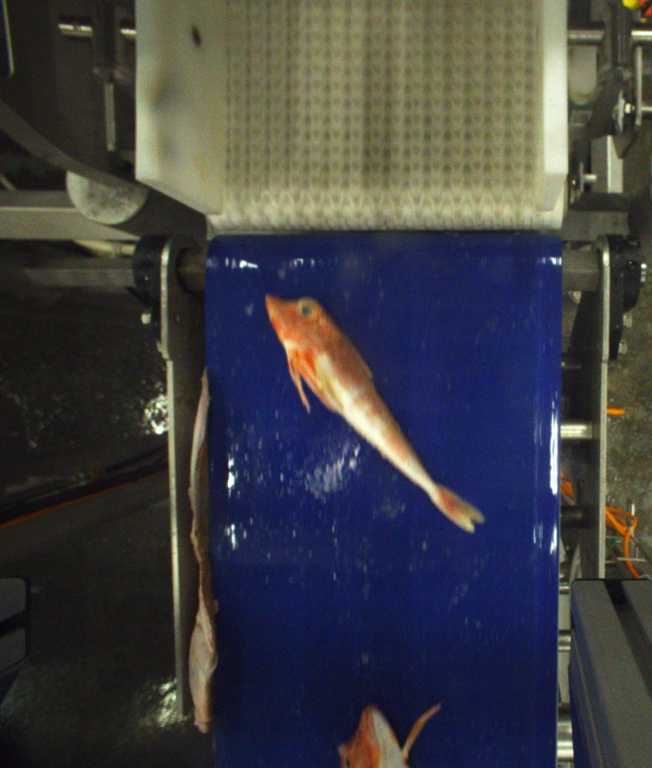GUU: (265, 292, 485, 532)
